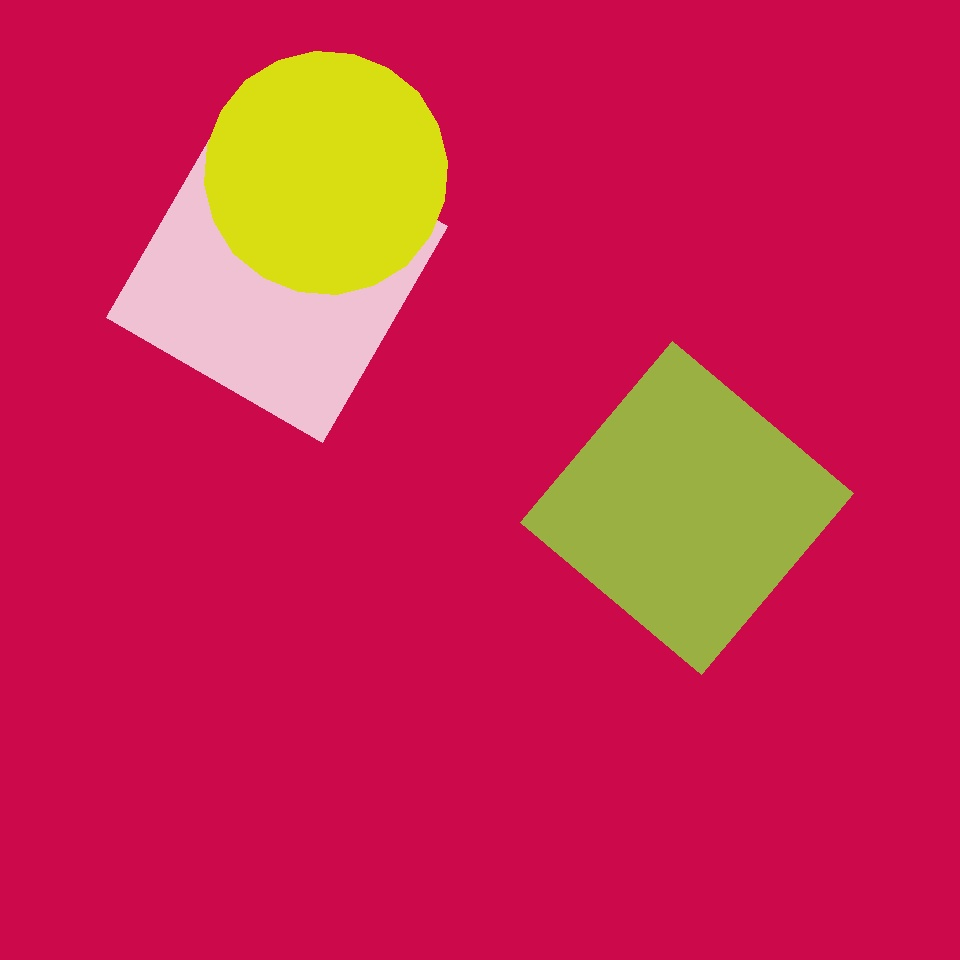square: (106, 101, 448, 442), (520, 342, 854, 674)
triangle: (205, 52, 448, 294)
